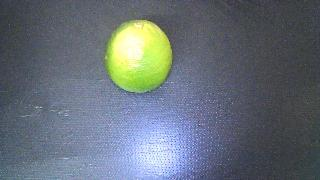EXPORTACION: (105, 20, 172, 93)
